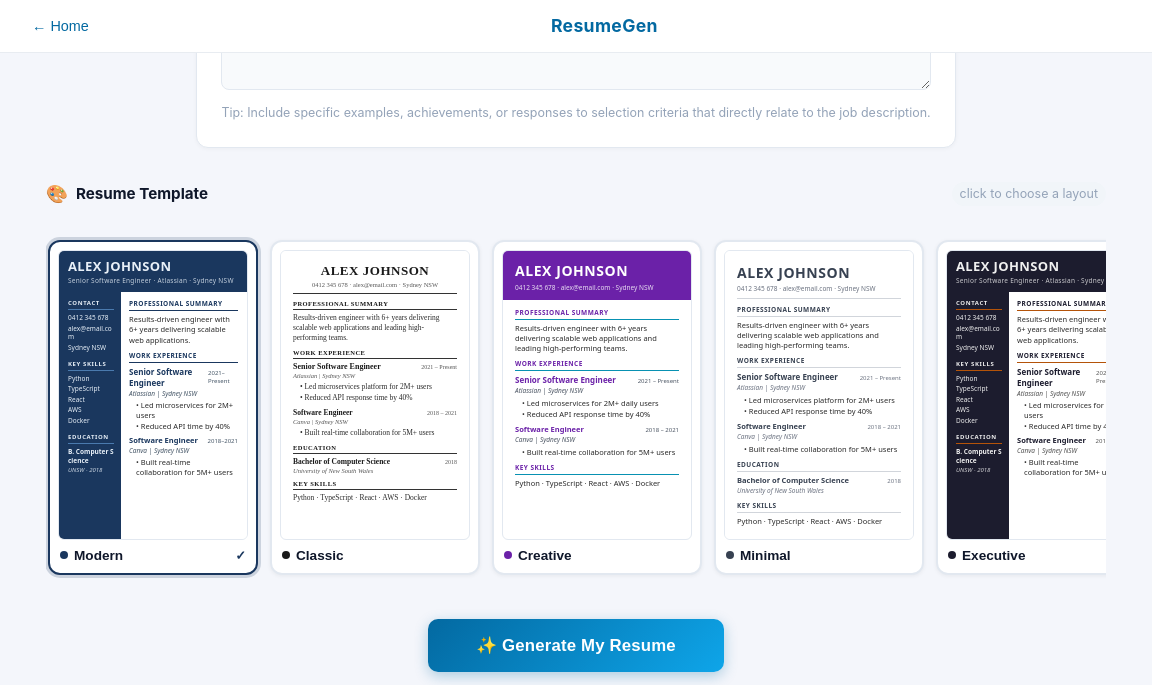
Test: Validation › shows error when job description is empty
(page scrolled)
Click the button "✨ Generate My Resume" at (576, 646), box [428, 619, 724, 672]
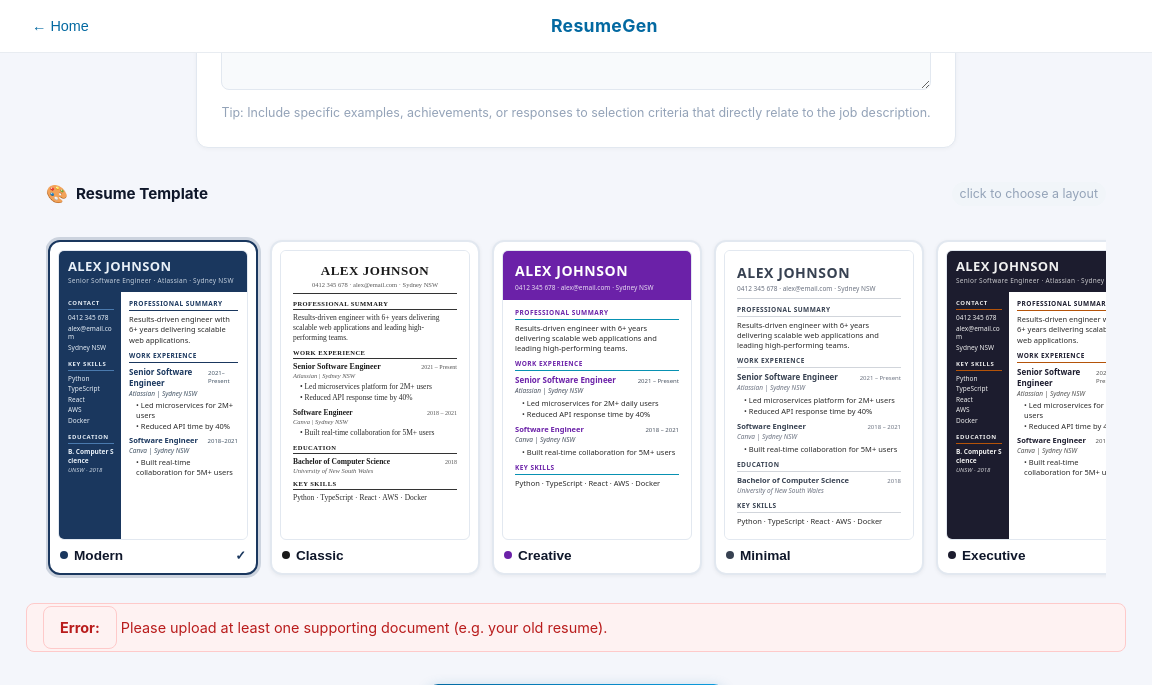
Expected: the message "Error: Please upload at least one supporting document (e.g. your old resume)." is shown, [26, 603, 1126, 652]
